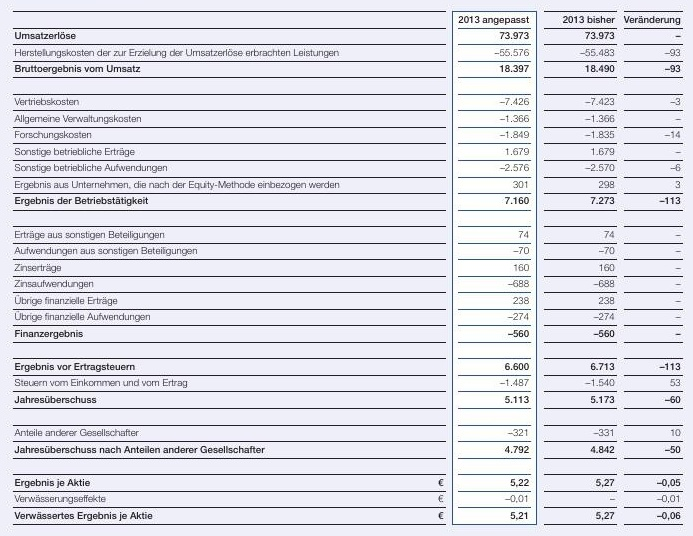table: (0, 0, 693, 536)
